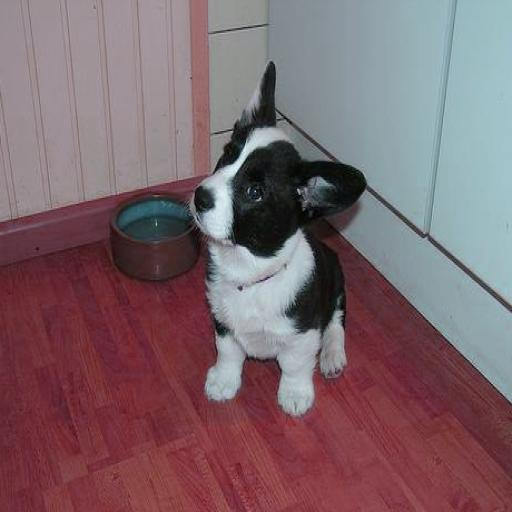dog_face: (189, 68, 352, 240)
